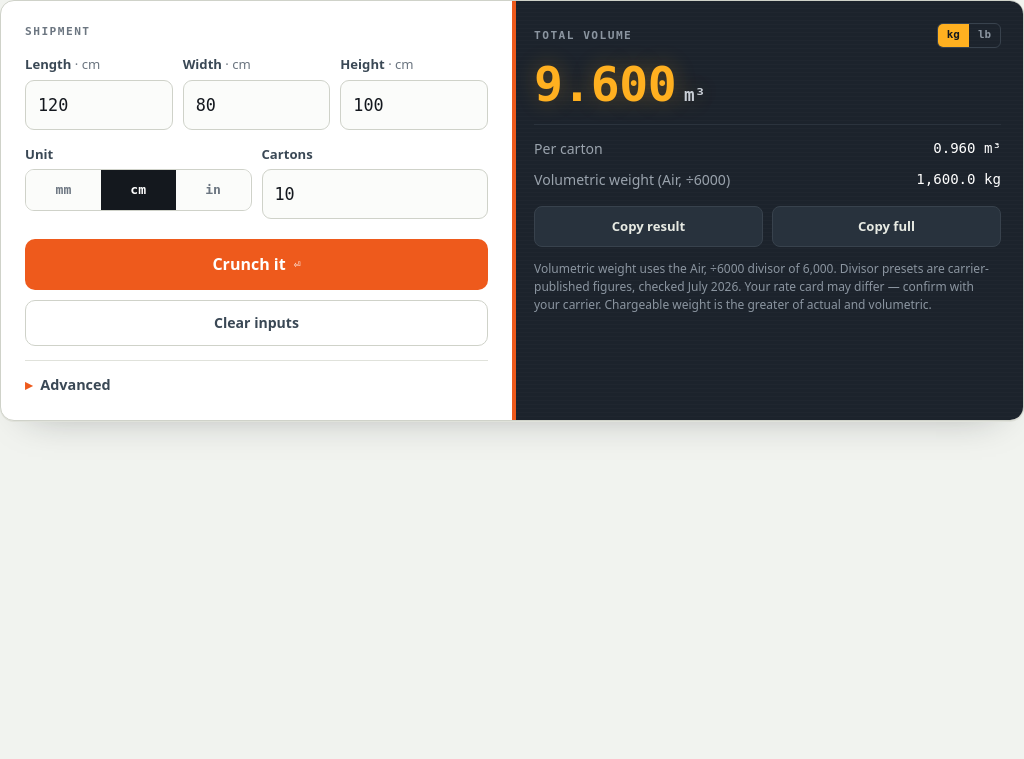
CbmCalculator › switching dims to inches auto-selects US parcel mode and pounds
What coordinates should you click on to do the following:
click the button "▸ Advanced"
I would click on:
 (75, 384)
Its box is [25, 360, 488, 396].
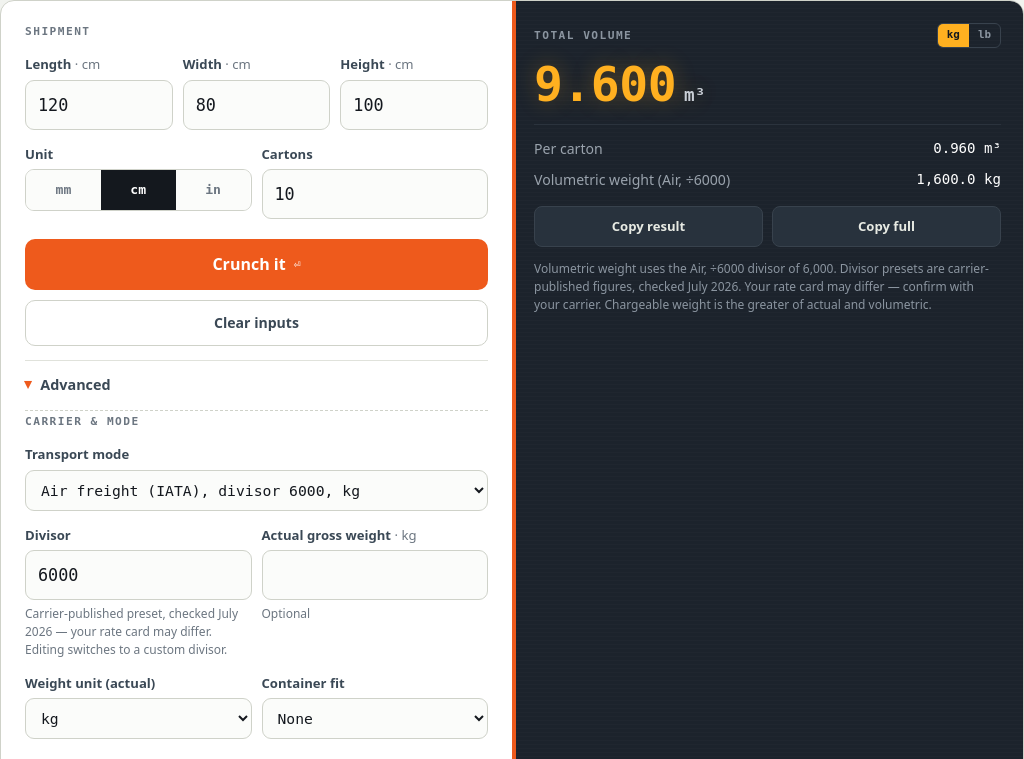
What coordinates should you click on to do the following:
click the button "in"
I would click on:
 (213, 190)
Its box is [176, 170, 250, 210].
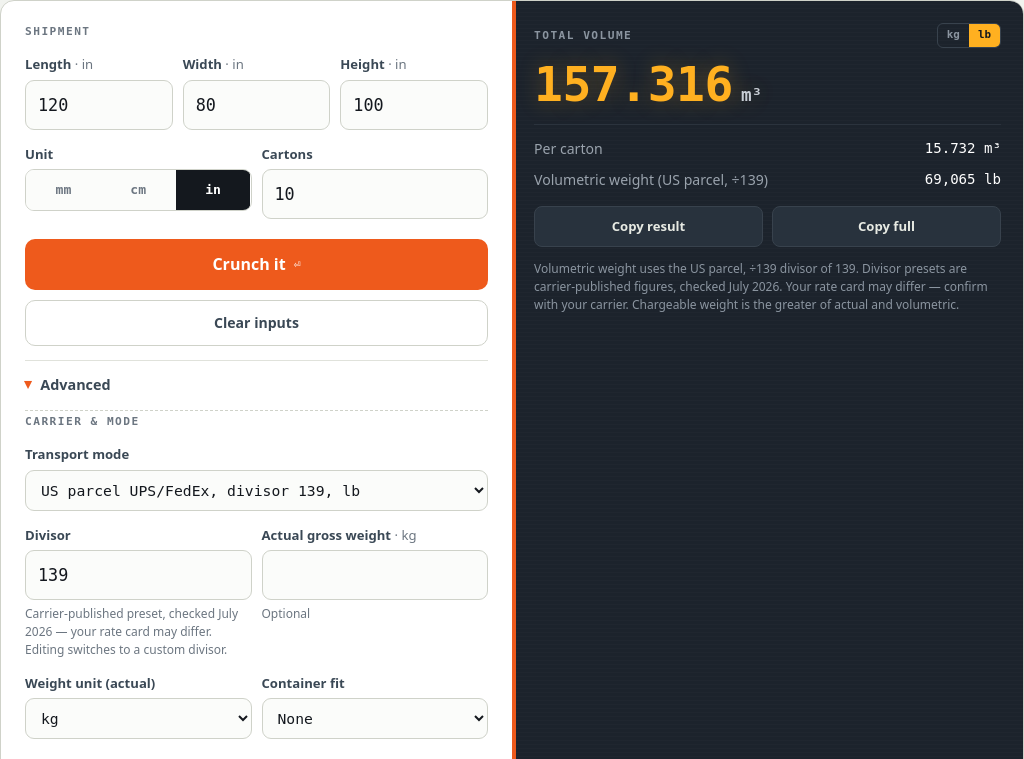
Result: the dropdown labelled "Transport mode" shows "US parcel UPS/FedEx, divisor 139, lb" at [25, 470, 488, 511]
Result: the number field labelled "Divisor" holds "139" at [25, 550, 252, 600]
